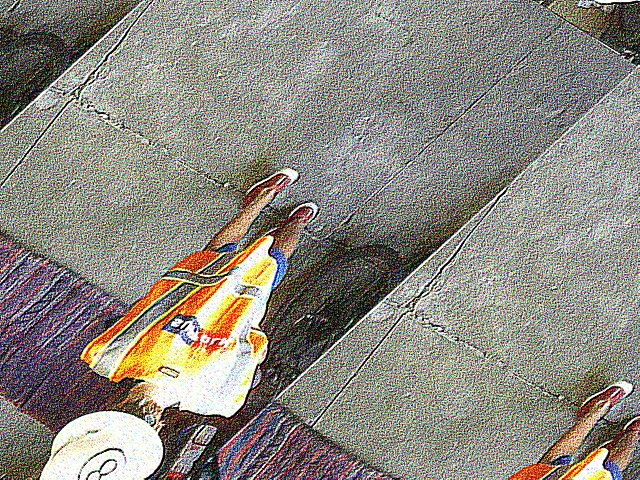eight: (64, 441, 140, 479)
